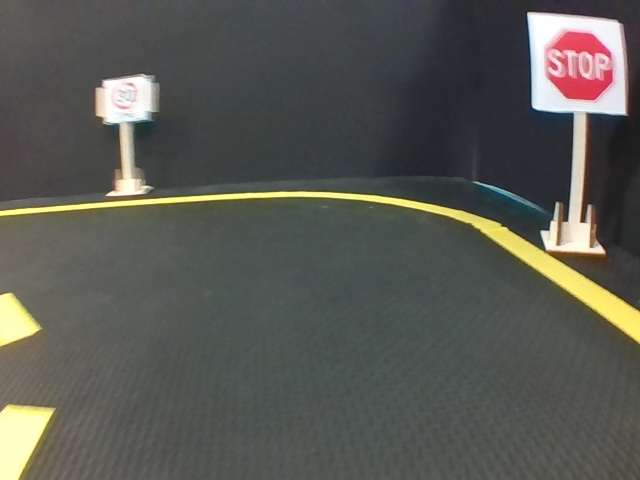30: (101, 78, 151, 120)
stop: (532, 15, 626, 115)
